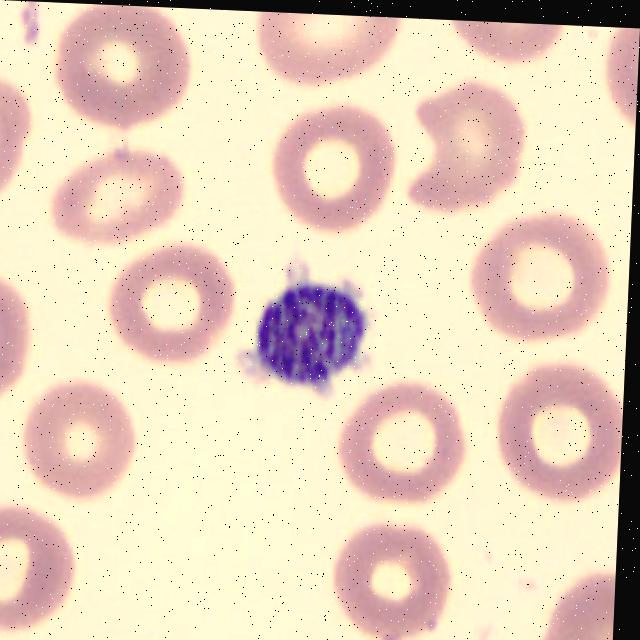platelets: (252, 269, 373, 409)
rbc: (465, 207, 619, 356), (51, 3, 198, 140), (264, 99, 400, 247), (42, 136, 212, 253), (317, 516, 477, 640), (106, 240, 245, 376), (486, 372, 624, 505), (407, 83, 538, 222), (19, 374, 146, 507), (329, 390, 475, 502), (250, 11, 416, 95), (0, 508, 84, 637), (431, 19, 590, 72), (526, 553, 617, 640), (0, 65, 46, 217), (585, 26, 640, 151), (0, 272, 41, 418)
